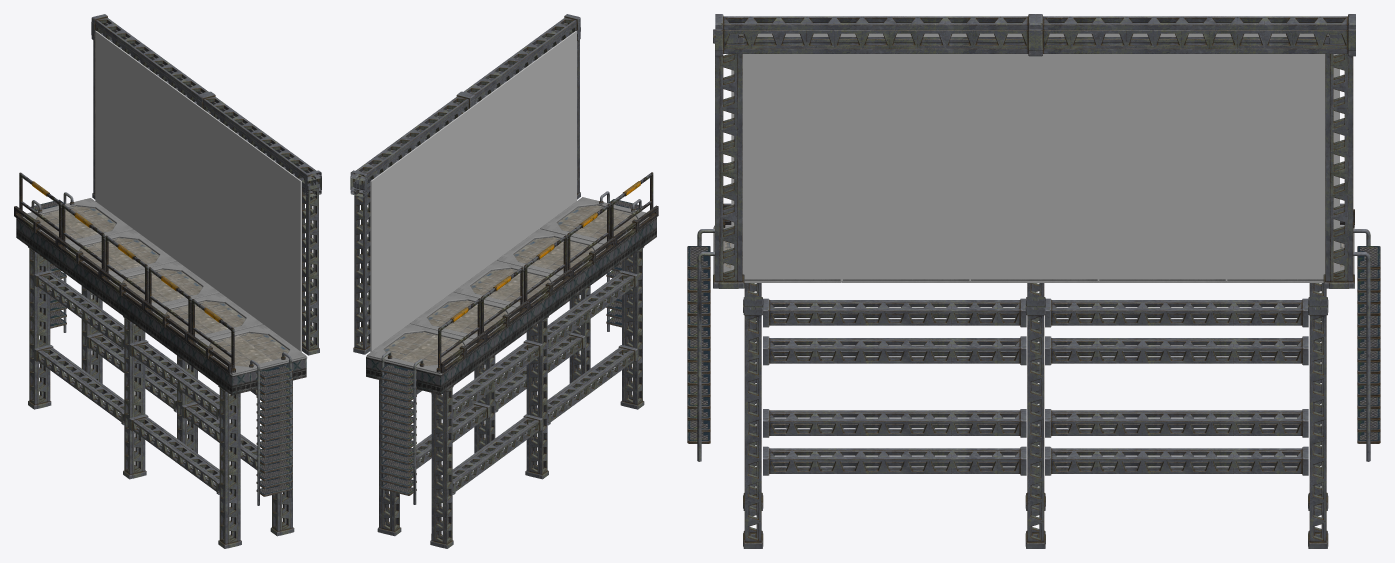
Rendered from SM_Billboard.fbx.
The picture shows the model from 3 angles, left to right: view 1: azimuth 30°, elevation 25°; view 2: azimuth 150°, elevation 25°; view 3: azimuth 270°, elevation 25°; orthographic projection. The views are drawn at different scales.
Parts seen in each view (by area): view 1: SM_Billboard_LOD0; view 2: SM_Billboard_LOD0; view 3: SM_Billboard_LOD0.
Boxes of the visible parts, x1,y1,x2,y2 form: SM_Billboard_LOD0: (14, 14, 321, 548); SM_Billboard_LOD0: (350, 14, 658, 548); SM_Billboard_LOD0: (687, 14, 1380, 548).
Size of the model in its own units: 250 by 1081 by 926.
Materials: 3 (2 with a texture image).
